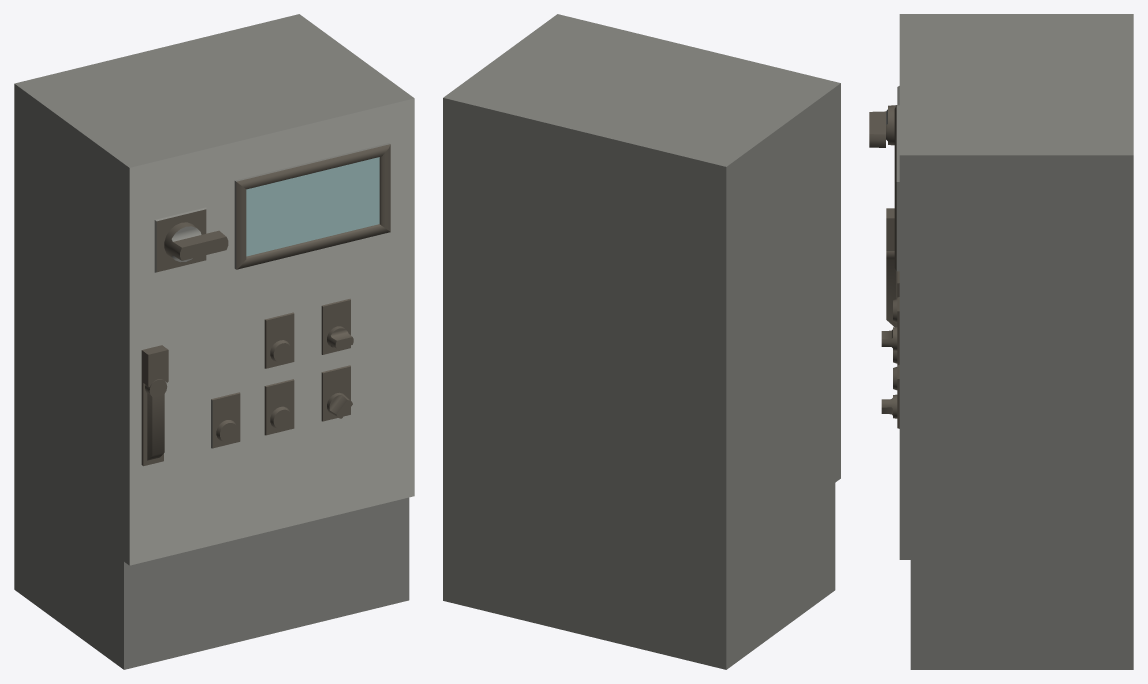
Rendered from elektrikkutusu1.fbx.
3 renders of one model, left to right at view 1: azimuth 30°, elevation 25°; view 2: azimuth 150°, elevation 25°; view 3: azimuth 270°, elevation 25°, orthographic. The views are drawn at different scales.
Parts seen in each view (by area): view 1: polySurface8; view 2: polySurface8; view 3: polySurface8.
Boxes of the visible parts, x1,y1,x2,y2 form: polySurface8: (14, 14, 414, 669); polySurface8: (443, 14, 840, 669); polySurface8: (869, 14, 1133, 669).
Bounding box in the file's own units: 60 × 102 × 47.44.
